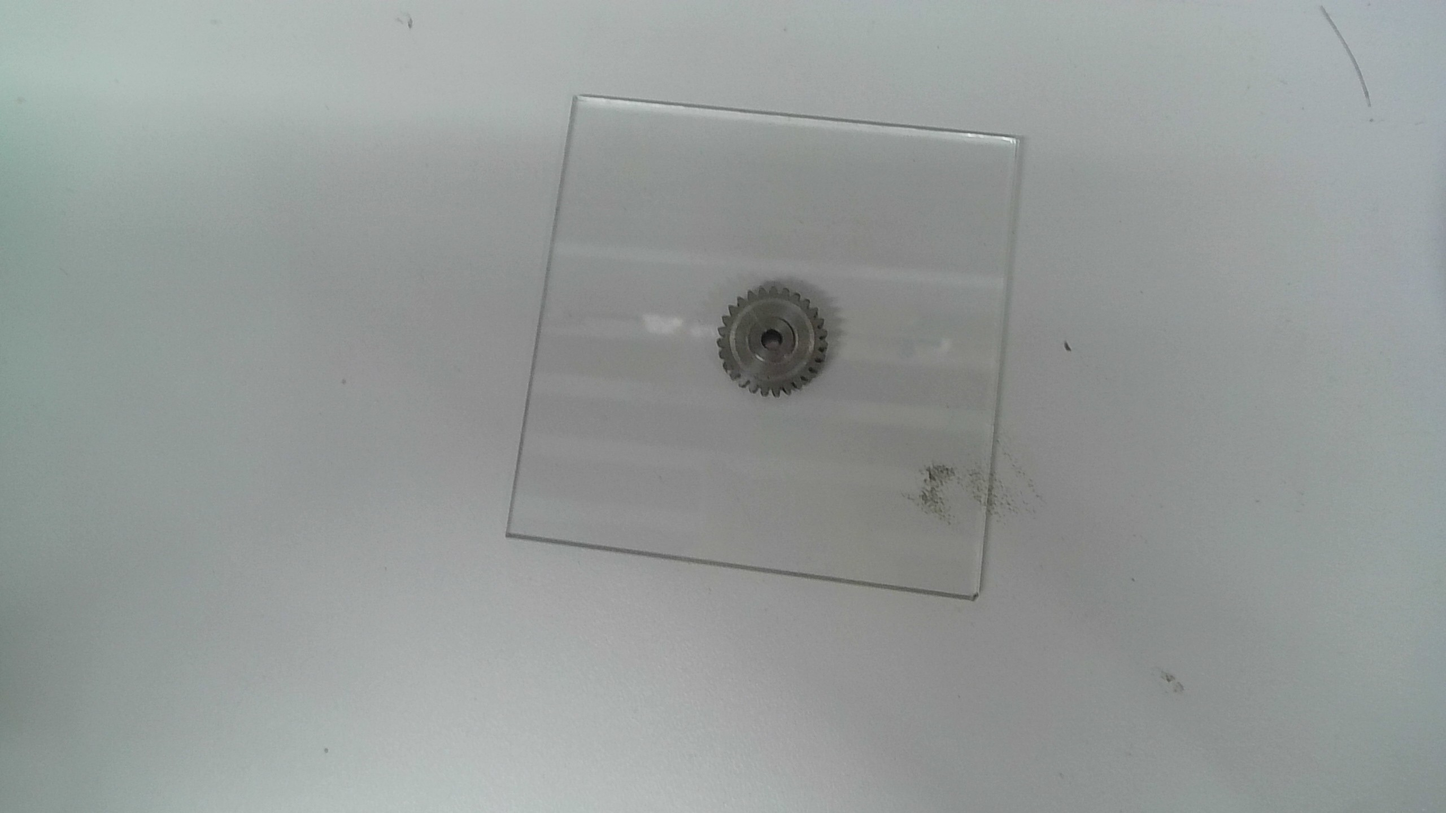gear: (713, 282, 831, 403)
